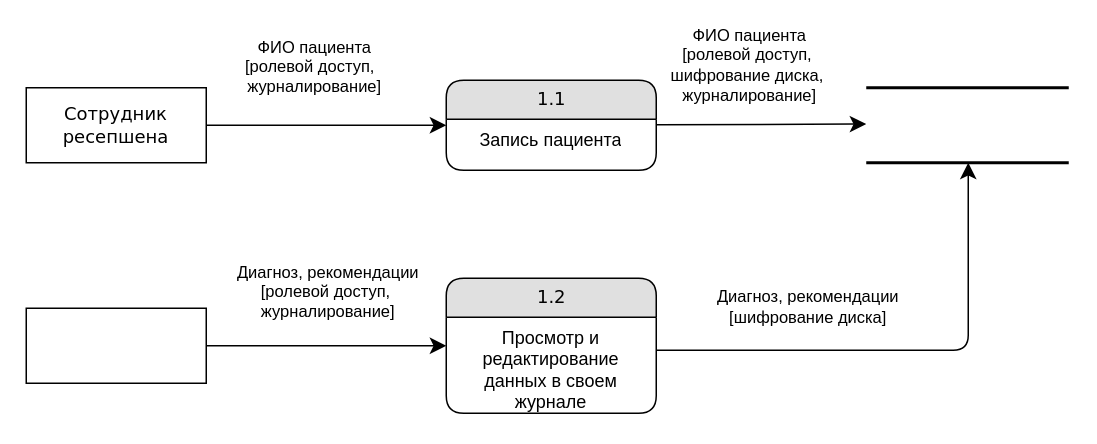
Some shapes in this 1097 by 444 pixel diagram are drawn without their labels. The shapes that lost their labels are listed below. From the top down, each one's centre as x and y in pixels, then its label:
the point at 967,125: Journal-Doctor-FIO 1
the point at 115,345: Врач
